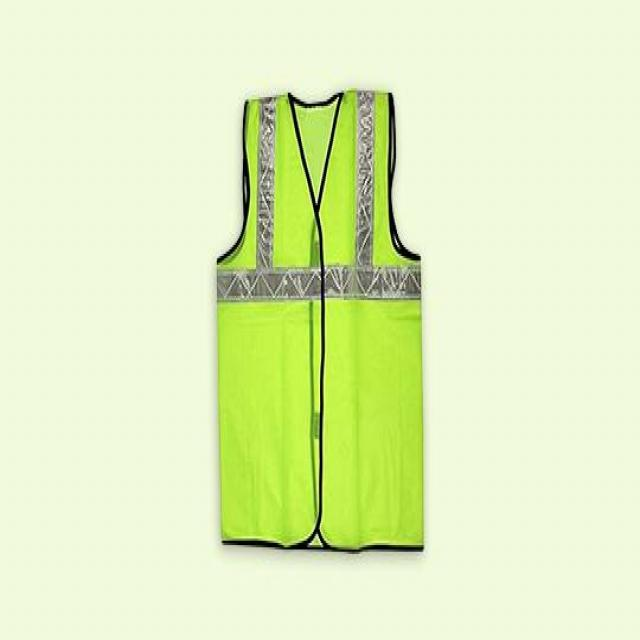Reflective-Jacket: (198, 73, 442, 556)
